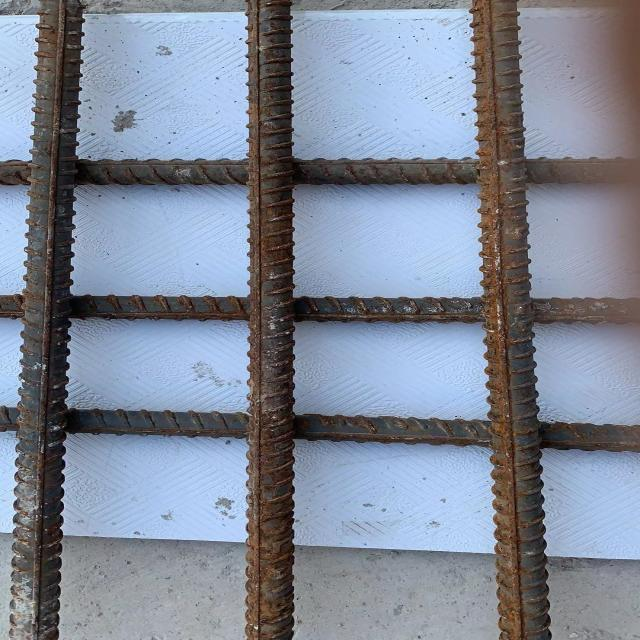ribbed bar: (464, 0, 554, 639), (7, 0, 88, 639), (240, 0, 297, 639), (0, 407, 639, 456), (0, 155, 639, 188), (0, 294, 639, 324)
